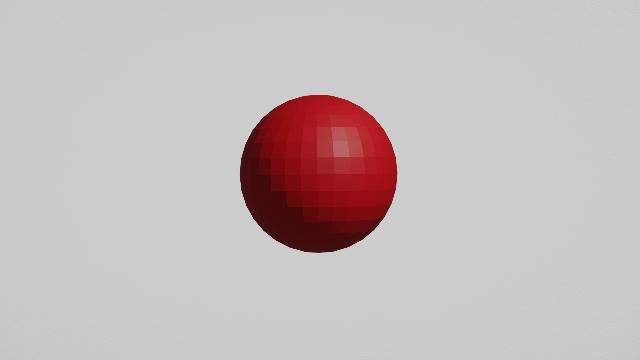Sphere: (238, 90, 402, 260)
